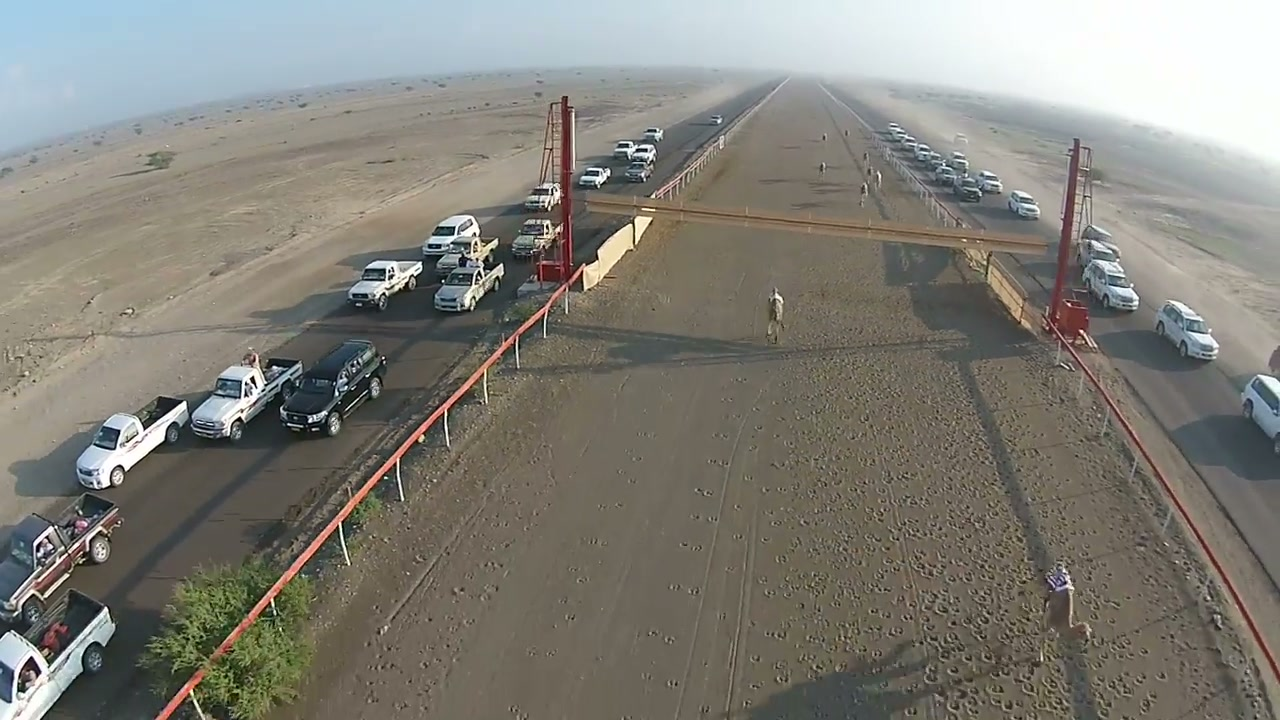animal_footprint: (792, 358, 1160, 706), (500, 398, 660, 702), (640, 344, 748, 693)
